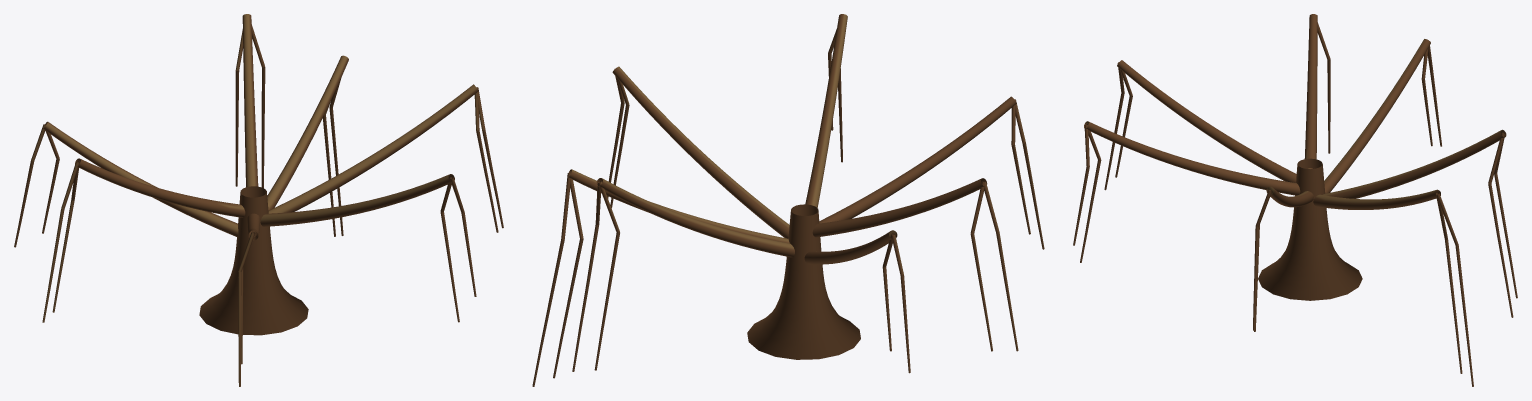
File: colony-tree-21-bark.obj
3 views of the same model, side by side, from view 1: azimuth 30°, elevation 25°; view 2: azimuth 150°, elevation 25°; view 3: azimuth 270°, elevation 25° (orthographic). The views are drawn at different scales.
Parts seen in each view (by area): view 1: bark; view 2: bark; view 3: bark.
Part boxes in pixels (x1=…): bark: x1=14, y1=14, x2=503, y2=386; bark: x1=532, y1=14, x2=1044, y2=386; bark: x1=1073, y1=14, x2=1517, y2=386.
Bounding box in the file's own units: 762 × 396 × 721.
